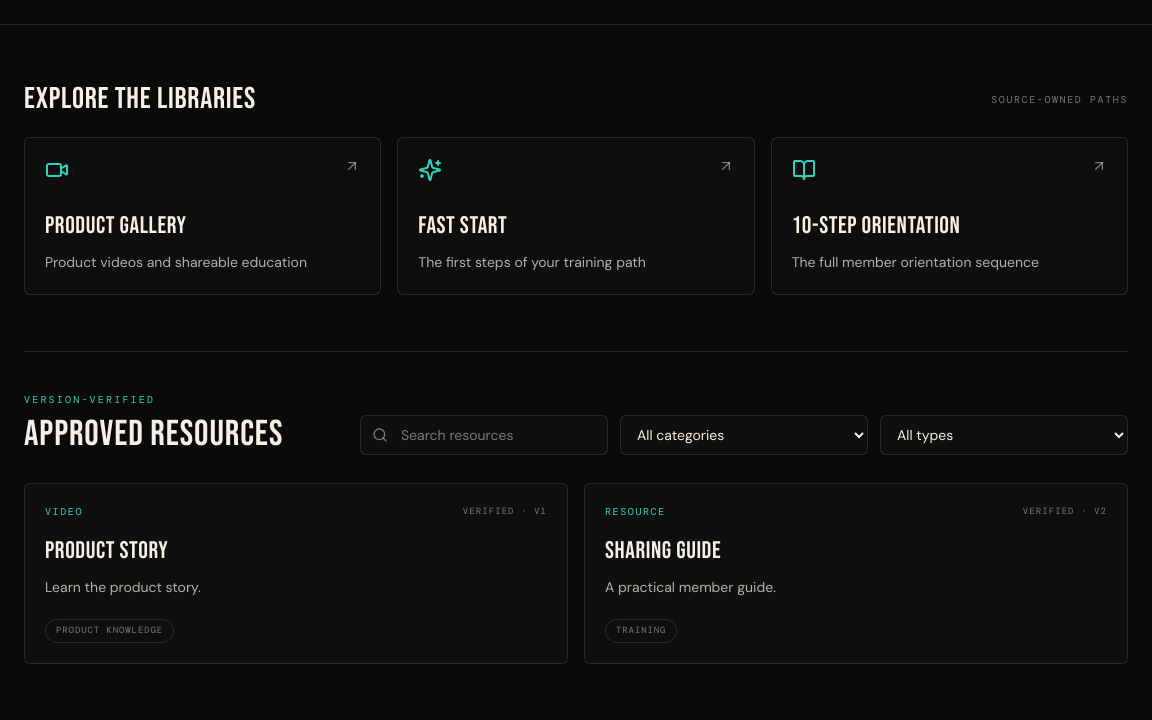
Scenario: Resource Center page › searches verified title, summary, categories, and tags
(page scrolled)
Expected: the heading "Product Story" is shown, [45,536,168,565]
Type "sharing" into the field with placeholder "Search resources" at {"x": 484, "y": 435}, box [360,415,608,455]
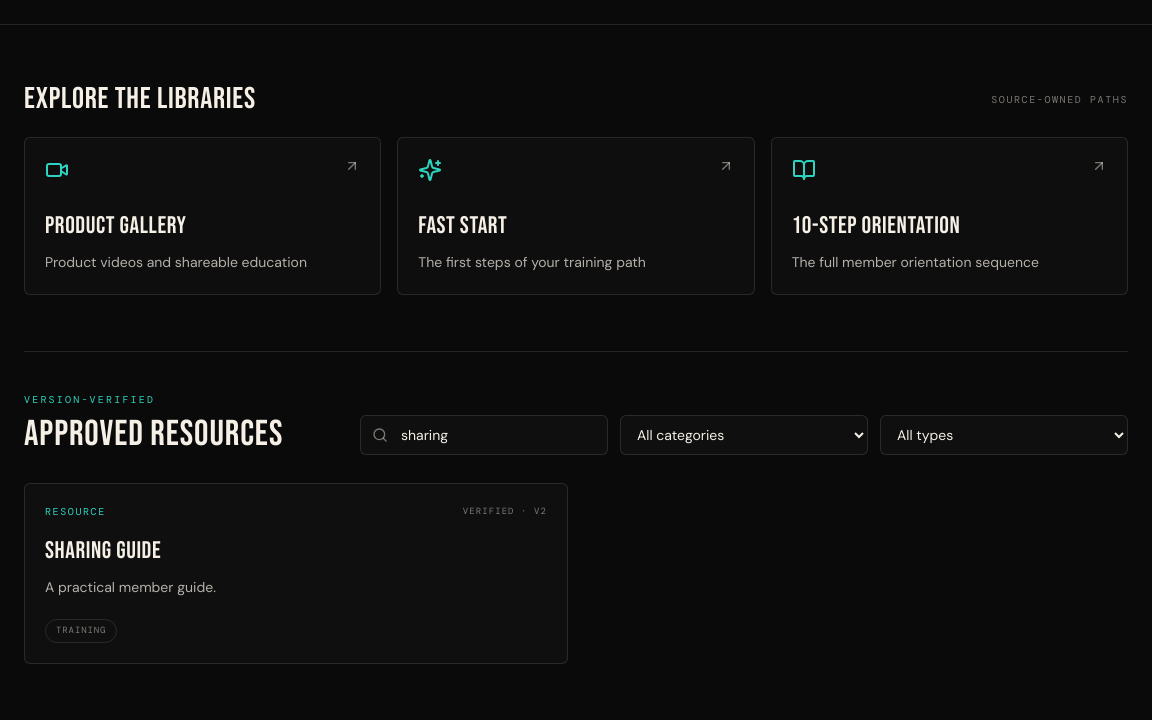
Expected: the heading "Sharing Guide" is shown, [45,536,161,565]
Result: the link "Product Story" is gone
